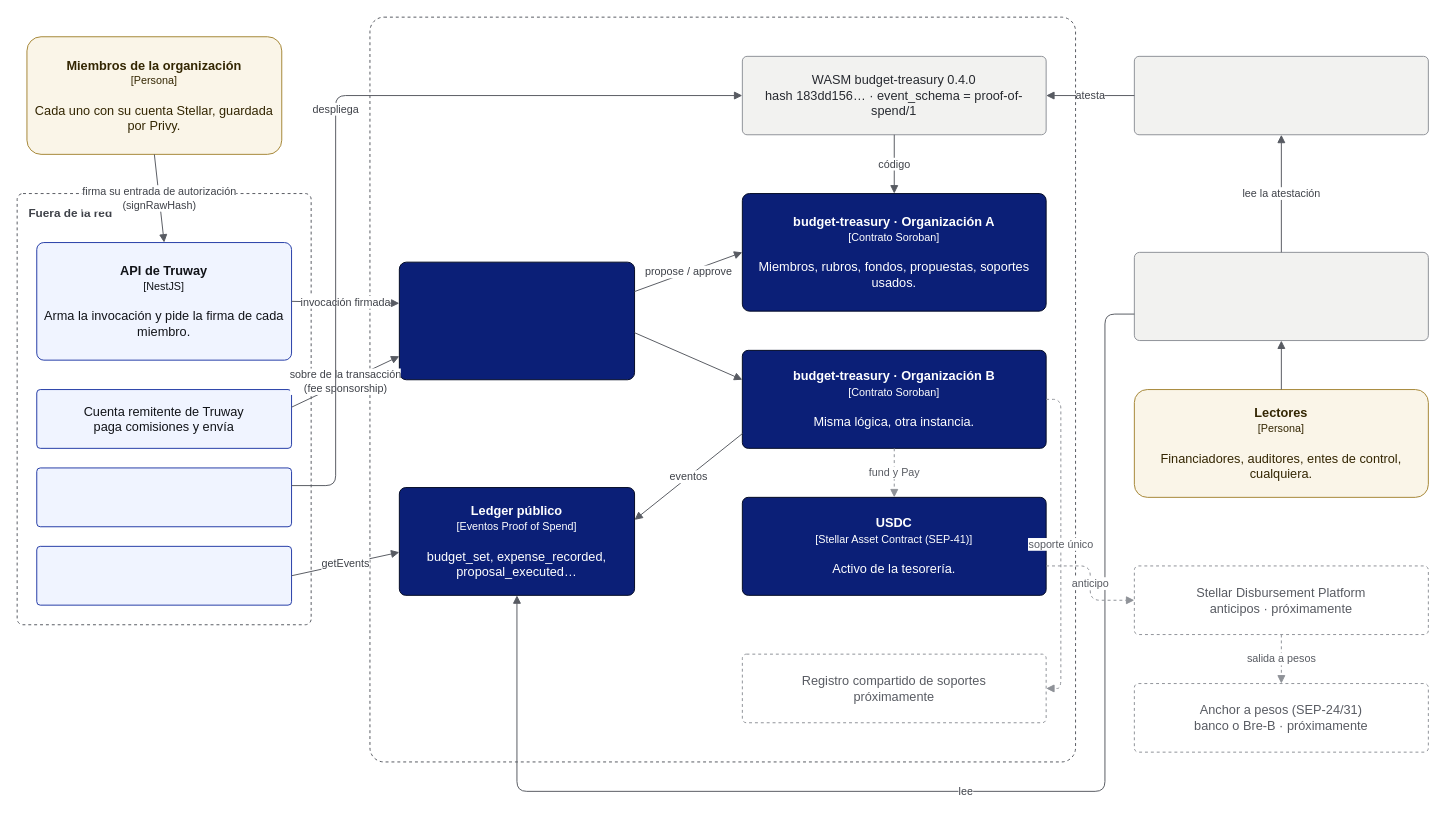
The diagram is 1446 pixels wide and 816 high, and some of its shapes have lost their labels. The shapes that lost their labels are listed below. From the top down, each one's box as (x1, y1, x2, y2) in pixels, then its label:
(1133, 55, 1428, 135): Release en GitHub WASM atestado (SEP-55)
(1133, 251, 1428, 341): Stellar Expert y Stellar Lab muestran el commit de origen
(398, 261, 635, 380): Stellar RPC [Servicio] simulateTransaction, sendTransaction, getEvents
(369, 16, 1076, 762): Stellar testnet
(36, 467, 292, 527): Cuenta de despliegue un solo uso, nunca es miembro
(36, 545, 292, 605): Indexador getEvents cada 15 s
